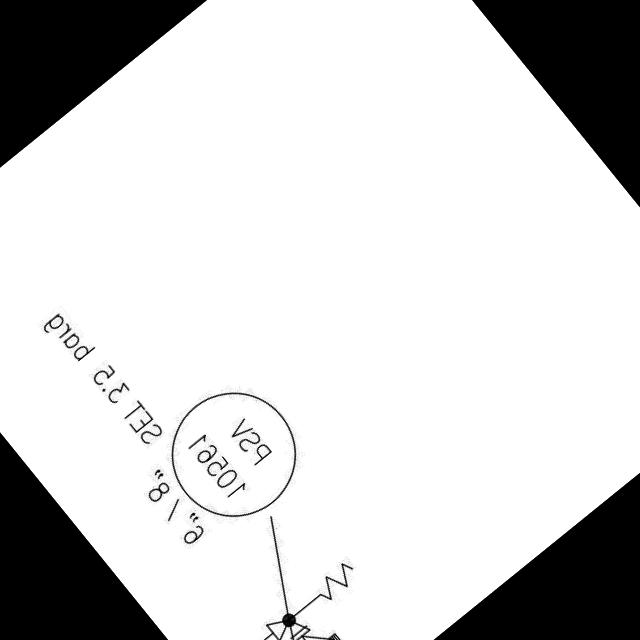RPV: (252, 551, 371, 640)
